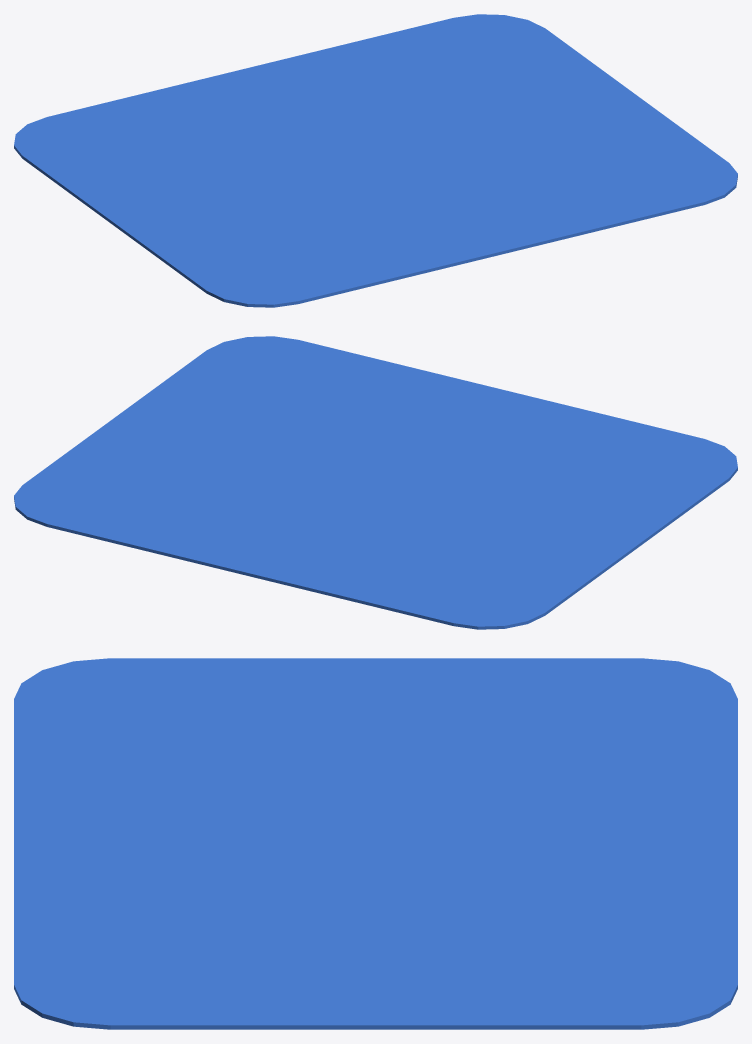
The model's file is mousepad.glb.
3 renders of one model, top to bottom at view 1: azimuth 30°, elevation 25°; view 2: azimuth 150°, elevation 25°; view 3: azimuth 270°, elevation 25°, orthographic. The views are drawn at different scales.
Visible parts, largest first — view 1: Pad; view 2: Pad; view 3: Pad.
Part boxes in pixels (box(x1,y1,x2,y2)): Pad: box(14, 14, 737, 307); Pad: box(14, 336, 737, 629); Pad: box(14, 658, 737, 1029).
Bounding box in the file's own units: 0.18 × 0.001 × 0.15.
